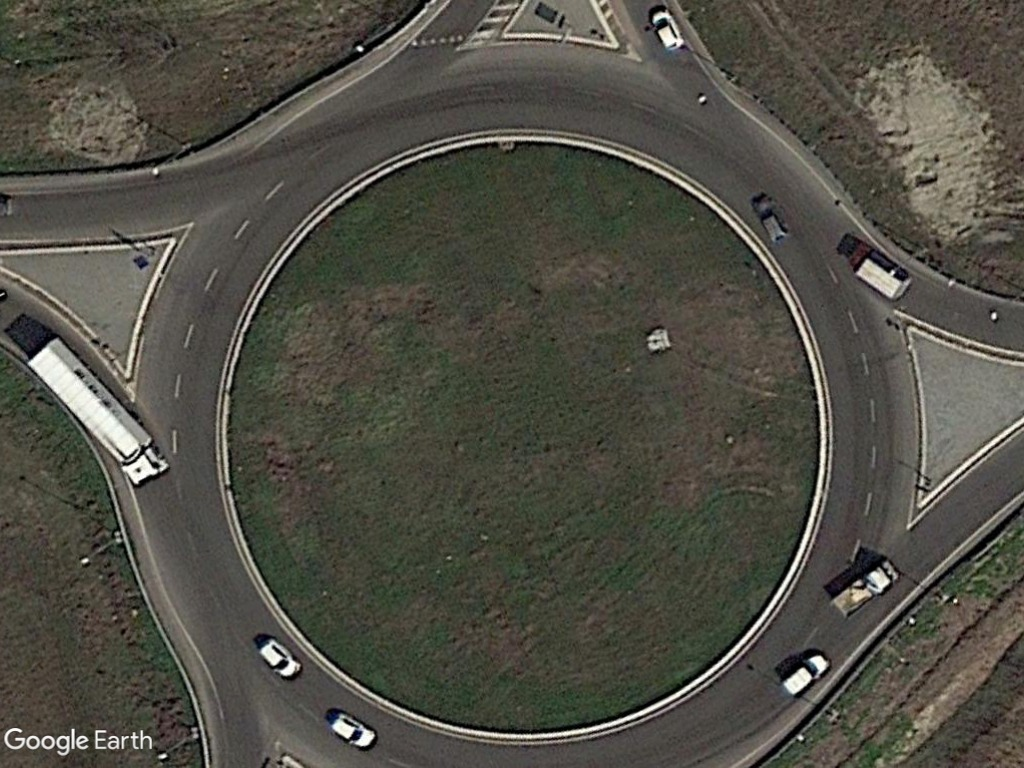car: (779, 650, 834, 700), (254, 634, 307, 685), (327, 706, 382, 753), (749, 193, 796, 246), (646, 6, 687, 53)
longvehicle: (22, 330, 173, 489)
other: (828, 557, 907, 622)
truck: (843, 237, 916, 304)
